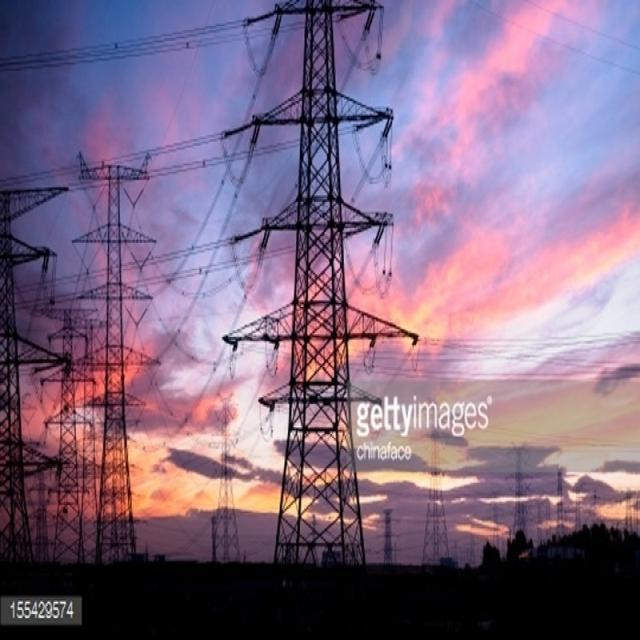non-critical vegetation: (234, 14, 402, 572), (74, 156, 174, 572), (7, 160, 62, 580)
